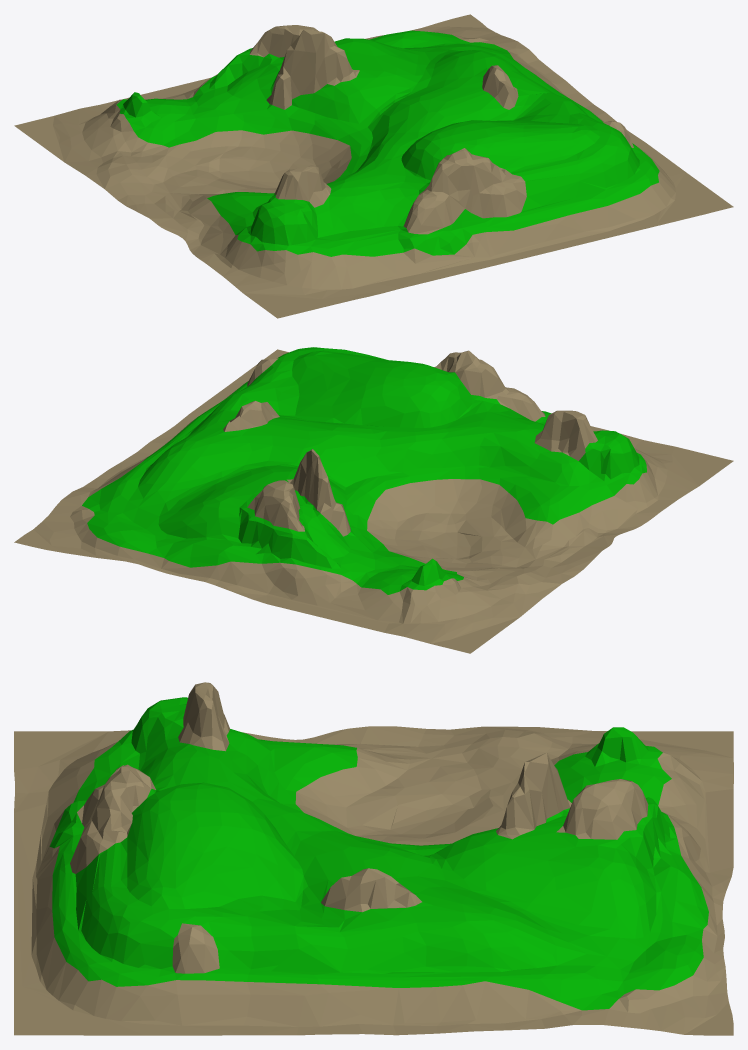
Rendered from island.glb.
3 views of the same model, one above another, from view 1: azimuth 30°, elevation 25°; view 2: azimuth 150°, elevation 25°; view 3: azimuth 270°, elevation 25° (orthographic). The views are drawn at different scales.
Parts seen in each view (by area): view 1: Landscape.001; view 2: Landscape.001; view 3: Landscape.001.
Boxes of the visible parts, x1=… form: Landscape.001: x1=14, y1=14, x2=733, y2=318; Landscape.001: x1=14, y1=347, x2=733, y2=653; Landscape.001: x1=14, y1=682, x2=733, y2=1035.
Size of what is drawn, in the model's own units: 2 by 0.4039 by 2.
